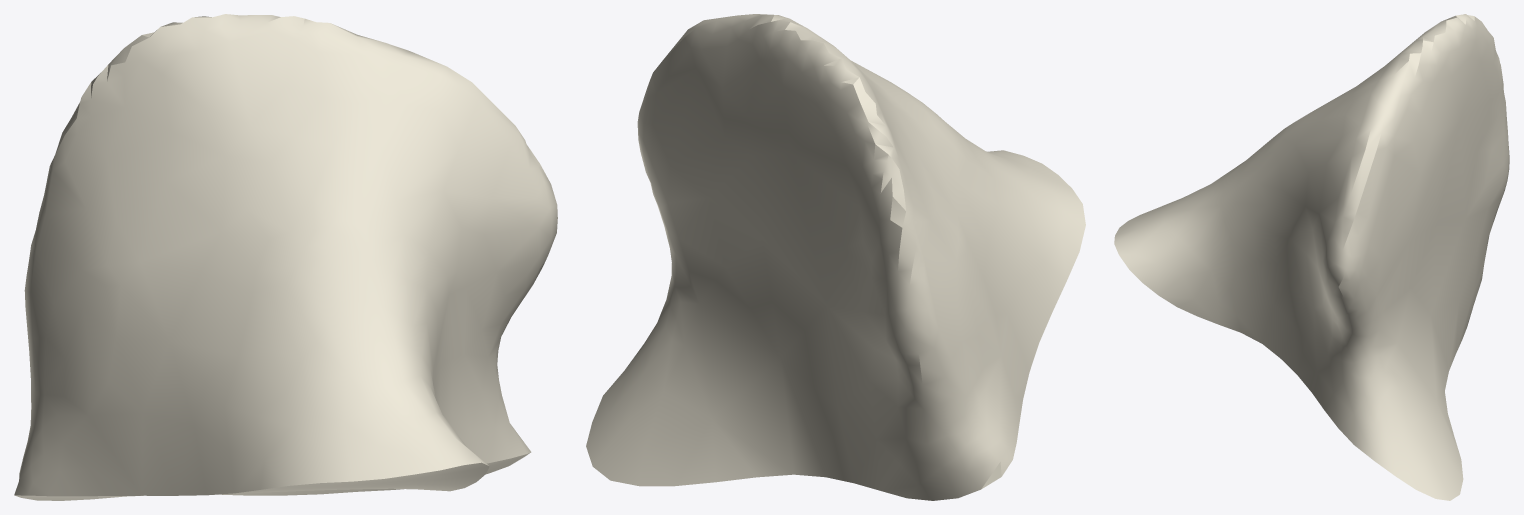
File: fma12075_mm2399.glb
3 renders of one model, left to right at view 1: azimuth 30°, elevation 25°; view 2: azimuth 150°, elevation 25°; view 3: azimuth 270°, elevation 25°, orthographic. The views are drawn at different scales.
Parts seen in each view (by area): view 1: FMA12075_MM2399; view 2: FMA12075_MM2399; view 3: FMA12075_MM2399.
Boxes of the visible parts, left/top/right/bottom form: FMA12075_MM2399: left=14, top=14, right=557, bottom=500; FMA12075_MM2399: left=586, top=14, right=1085, bottom=500; FMA12075_MM2399: left=1114, top=14, right=1509, bottom=500.
Bounding box in the file's own units: 0.013 × 0.0139 × 0.0127.
